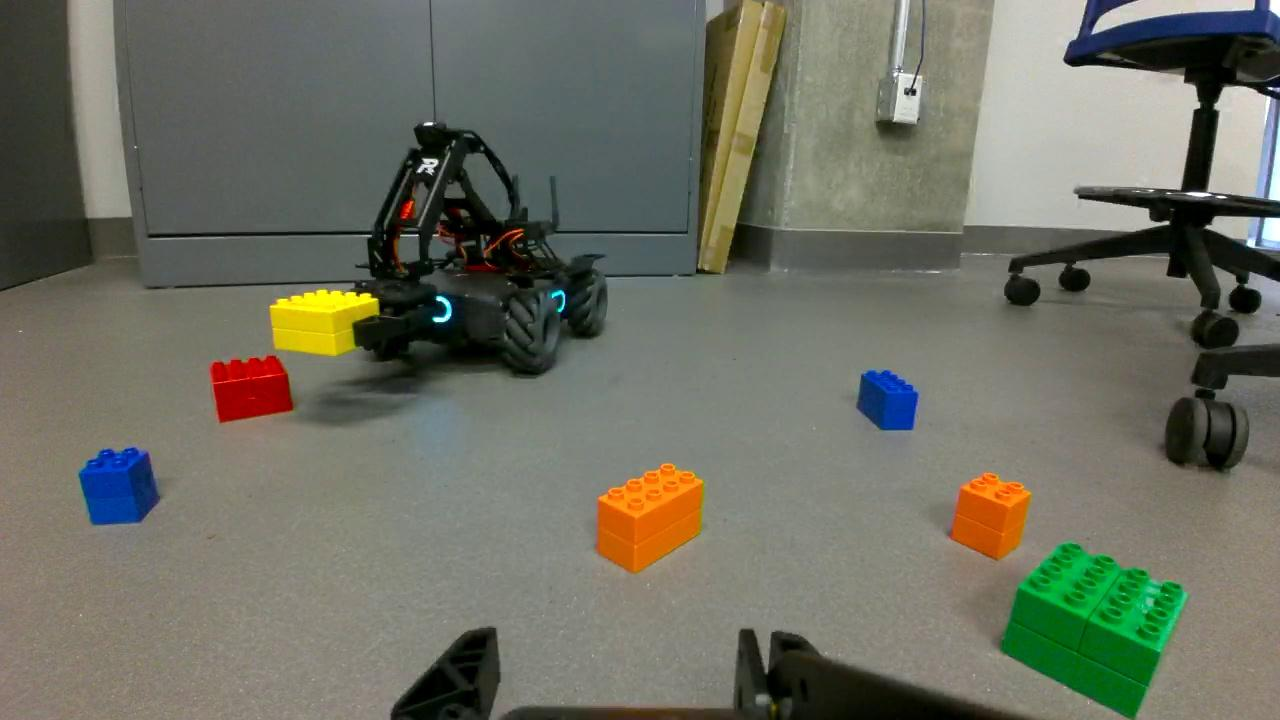2x2lego: (79, 444, 165, 529), (953, 470, 1032, 558)
2x4lego: (593, 461, 706, 573), (853, 366, 923, 434)
4x4lego: (998, 535, 1192, 720), (206, 353, 298, 424)
